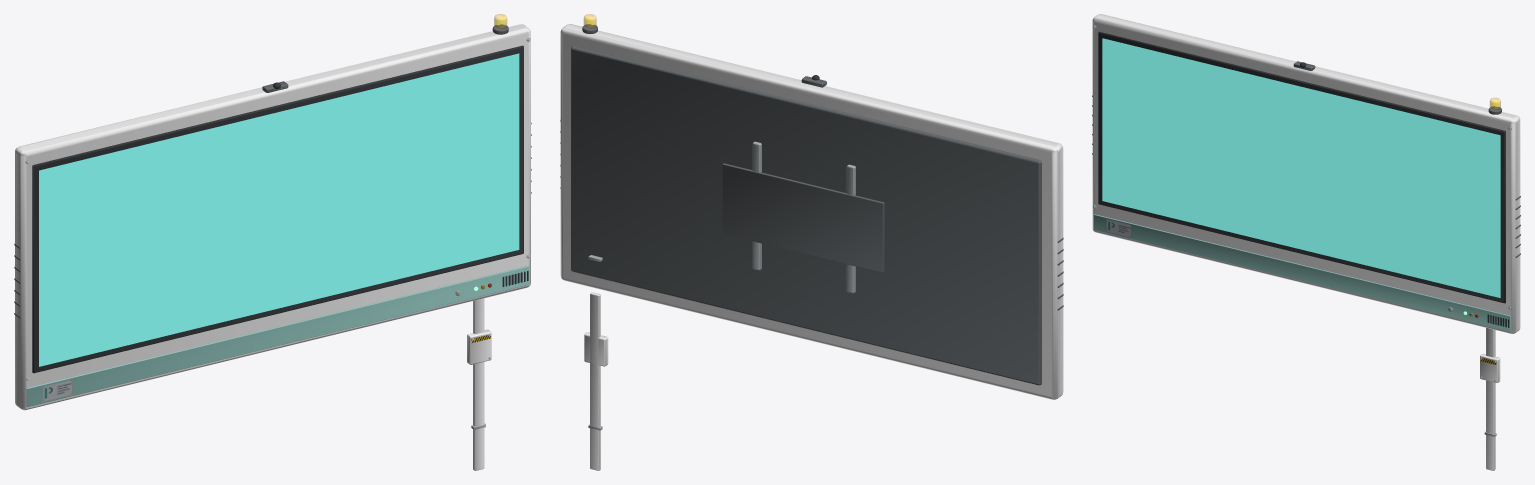
The model's file is monitor_mundo.glb.
3 renders of one model, left to right at view 1: azimuth 30°, elevation 25°; view 2: azimuth 150°, elevation 25°; view 3: azimuth 330°, elevation 25°, orthographic. The views are drawn at different scales.
Parts seen in each view (by area): view 1: pantalla, carcasa, franja, marco, canaleta, empalme; view 2: carcasa_trasera, carcasa, placa_pared, canaleta, empalme, brazo-0.35, brazo0.35; view 3: pantalla, carcasa, franja, marco, canaleta, empalme.
Boxes of the visible parts, box(x1,y1,x2,y2) form: pantalla: box(39, 53, 519, 366); carcasa: box(15, 24, 530, 410); franja: box(26, 265, 529, 406); marco: box(32, 45, 523, 373); canaleta: box(473, 298, 484, 470); empalme: box(467, 329, 491, 364); carcasa_trasera: box(571, 46, 1041, 385); carcasa: box(560, 24, 1063, 399); placa_pared: box(722, 163, 884, 272); canaleta: box(590, 292, 600, 470); empalme: box(584, 332, 608, 366); brazo-0.35: box(846, 164, 855, 293); brazo0.35: box(752, 141, 761, 270); pantalla: box(1102, 38, 1500, 297); carcasa: box(1092, 14, 1520, 333); franja: box(1094, 214, 1510, 331); marco: box(1098, 31, 1505, 303); canaleta: box(1486, 328, 1495, 470); empalme: box(1480, 353, 1500, 382).
Bounding box in the file's own units: 3.71 × 3.16 × 0.1985.
Materials: 14 (2 with a texture image).
